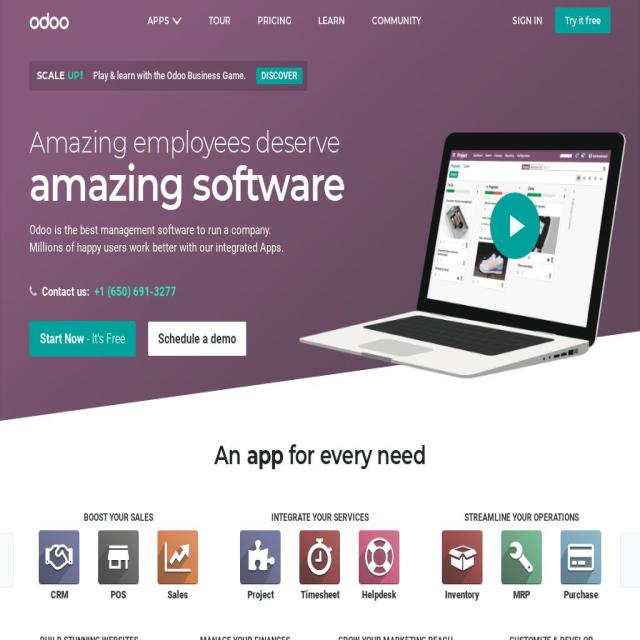button: (30, 60, 308, 91), (30, 320, 136, 357), (148, 321, 246, 356), (154, 530, 202, 601), (296, 530, 344, 601), (438, 530, 486, 601), (497, 530, 545, 601), (95, 530, 142, 601), (237, 530, 284, 601), (356, 530, 403, 601), (557, 530, 604, 601), (36, 530, 82, 601), (359, 0, 434, 42), (245, 0, 304, 42), (500, 0, 555, 42), (306, 0, 358, 42), (135, 0, 182, 42), (196, 0, 243, 42), (555, 7, 611, 34), (30, 613, 128, 625), (489, 222, 540, 238)
heading: (29, 154, 345, 212), (29, 122, 340, 160), (283, 440, 426, 471), (240, 440, 284, 471), (214, 440, 241, 471), (37, 68, 67, 82), (68, 68, 80, 82)
image: (0, 0, 640, 332), (420, 132, 620, 378), (494, 192, 540, 259), (98, 530, 139, 584), (240, 530, 281, 584), (359, 530, 400, 584), (501, 530, 542, 584), (560, 530, 601, 584), (39, 530, 79, 584), (158, 530, 198, 584), (300, 530, 340, 584), (442, 530, 482, 584), (290, 219, 350, 245), (620, 534, 640, 588), (0, 534, 14, 588), (29, 13, 69, 29), (99, 612, 128, 624), (429, 282, 442, 300)
link: (93, 70, 246, 82), (95, 283, 176, 299), (30, 392, 111, 407), (146, 312, 230, 326), (30, 312, 110, 326), (29, 452, 108, 466), (146, 392, 217, 407), (30, 368, 94, 382), (262, 432, 316, 447), (146, 377, 202, 391), (262, 312, 316, 326), (29, 524, 80, 538), (30, 328, 80, 342), (262, 448, 310, 462), (262, 384, 306, 398), (29, 492, 69, 506), (146, 417, 186, 431), (146, 352, 180, 367), (300, 588, 339, 601), (262, 488, 296, 502), (444, 588, 480, 601), (362, 588, 397, 601), (563, 588, 598, 601), (290, 472, 320, 487), (146, 337, 178, 351), (262, 328, 294, 342), (262, 352, 290, 367), (30, 508, 59, 522), (29, 468, 56, 482), (29, 344, 55, 358), (262, 472, 286, 487), (326, 472, 350, 487), (247, 588, 274, 601), (262, 368, 282, 382), (262, 408, 282, 422), (168, 588, 188, 601), (301, 488, 318, 502), (50, 588, 68, 601), (512, 588, 530, 601), (111, 588, 126, 601)
text: (428, 330, 598, 395), (428, 418, 606, 448), (29, 239, 284, 255), (30, 222, 272, 238), (230, 511, 410, 525), (29, 511, 208, 525), (432, 511, 610, 525), (30, 283, 89, 302), (29, 422, 87, 441), (262, 283, 308, 302), (146, 283, 190, 302), (30, 613, 96, 625), (256, 67, 302, 84), (42, 283, 89, 299), (40, 330, 84, 347), (30, 634, 148, 640), (186, 634, 304, 640), (336, 634, 454, 640), (492, 634, 610, 640), (84, 330, 125, 347), (444, 284, 476, 298), (285, 472, 291, 487), (320, 472, 326, 487), (296, 488, 302, 502)
